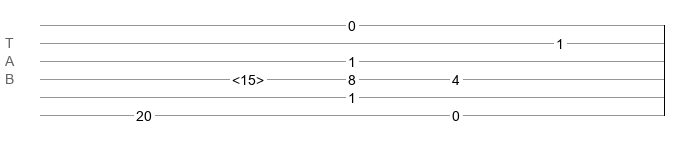0: (348, 18, 356, 28), (452, 108, 460, 118)
1: (348, 90, 356, 100), (348, 54, 356, 64), (556, 36, 564, 46)
20: (136, 108, 152, 118)
4: (452, 72, 460, 82)
8: (348, 72, 356, 82)
harmonic: (232, 72, 264, 82)
